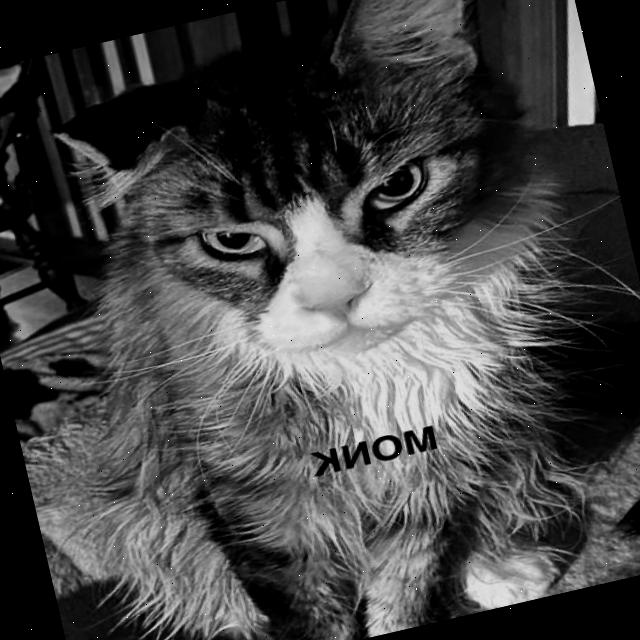maine_coon_cat: (28, 0, 610, 461)
